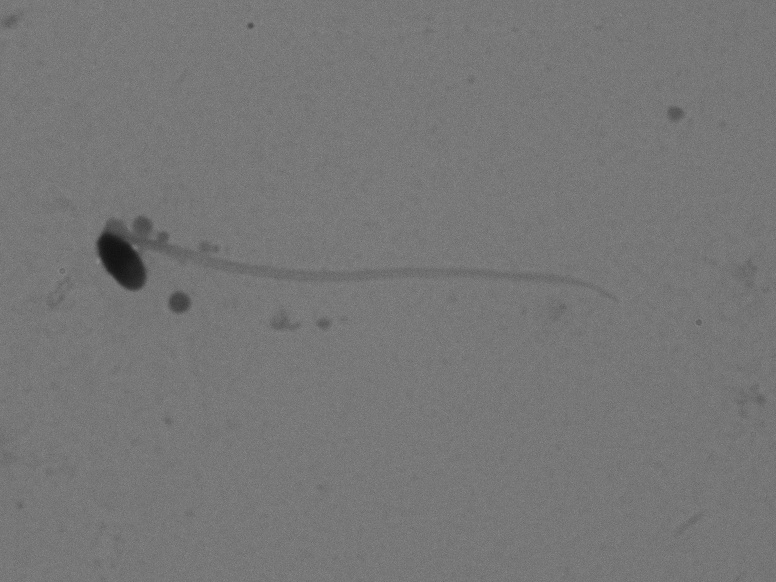Abnormal: (74, 195, 644, 350)
